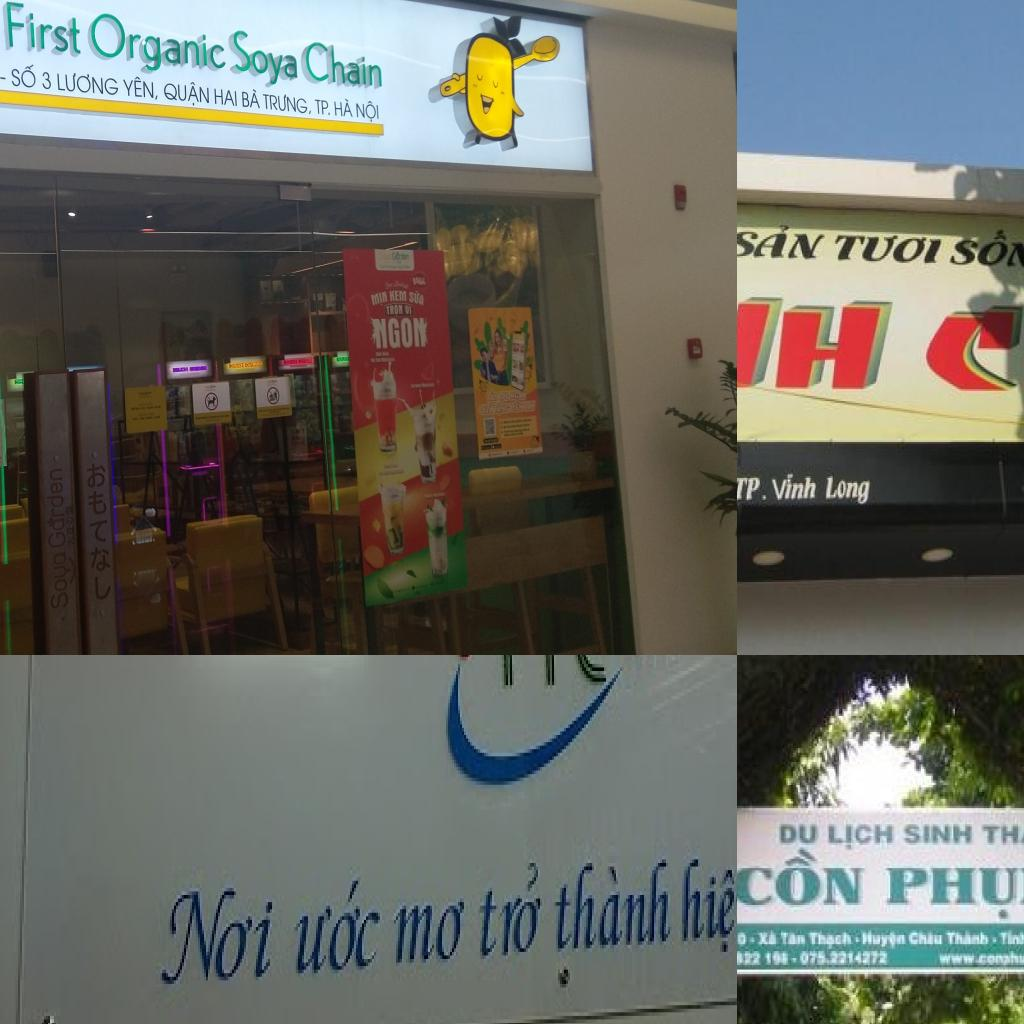text: (737, 287, 899, 396), (154, 881, 284, 1005), (548, 849, 680, 966), (286, 870, 388, 991), (921, 298, 1024, 399), (87, 9, 227, 81), (474, 849, 550, 973), (881, 861, 1024, 923), (737, 847, 868, 911), (388, 892, 472, 980), (680, 848, 737, 962), (488, 655, 614, 702), (300, 33, 386, 94), (3, 0, 83, 62), (228, 29, 300, 93), (829, 229, 947, 268), (737, 218, 830, 262), (945, 223, 1024, 274), (827, 820, 897, 854), (902, 820, 976, 850), (800, 948, 894, 970), (54, 68, 121, 98), (371, 316, 427, 351), (768, 468, 822, 504), (824, 471, 875, 509), (44, 466, 67, 550), (48, 548, 78, 611), (162, 78, 212, 108), (980, 815, 1024, 849), (262, 91, 314, 116), (737, 949, 792, 972), (778, 820, 820, 847), (737, 472, 770, 505), (121, 75, 159, 102), (861, 930, 909, 951), (808, 930, 854, 951), (945, 928, 991, 949), (10, 60, 38, 92), (352, 98, 382, 124), (907, 930, 945, 949), (213, 85, 239, 109), (240, 86, 263, 110), (998, 928, 1024, 949), (780, 930, 808, 949), (333, 96, 355, 119), (313, 95, 332, 118), (759, 928, 779, 949), (369, 290, 389, 310), (409, 289, 426, 308), (388, 289, 408, 304), (40, 68, 52, 92), (385, 304, 404, 318), (492, 402, 511, 416), (391, 250, 411, 262), (479, 402, 495, 417), (737, 928, 748, 949), (510, 400, 524, 414), (510, 390, 527, 401), (523, 400, 537, 412), (412, 276, 427, 287), (486, 390, 498, 402), (498, 390, 510, 402), (404, 304, 413, 318), (14, 378, 24, 386), (0, 73, 7, 82)
